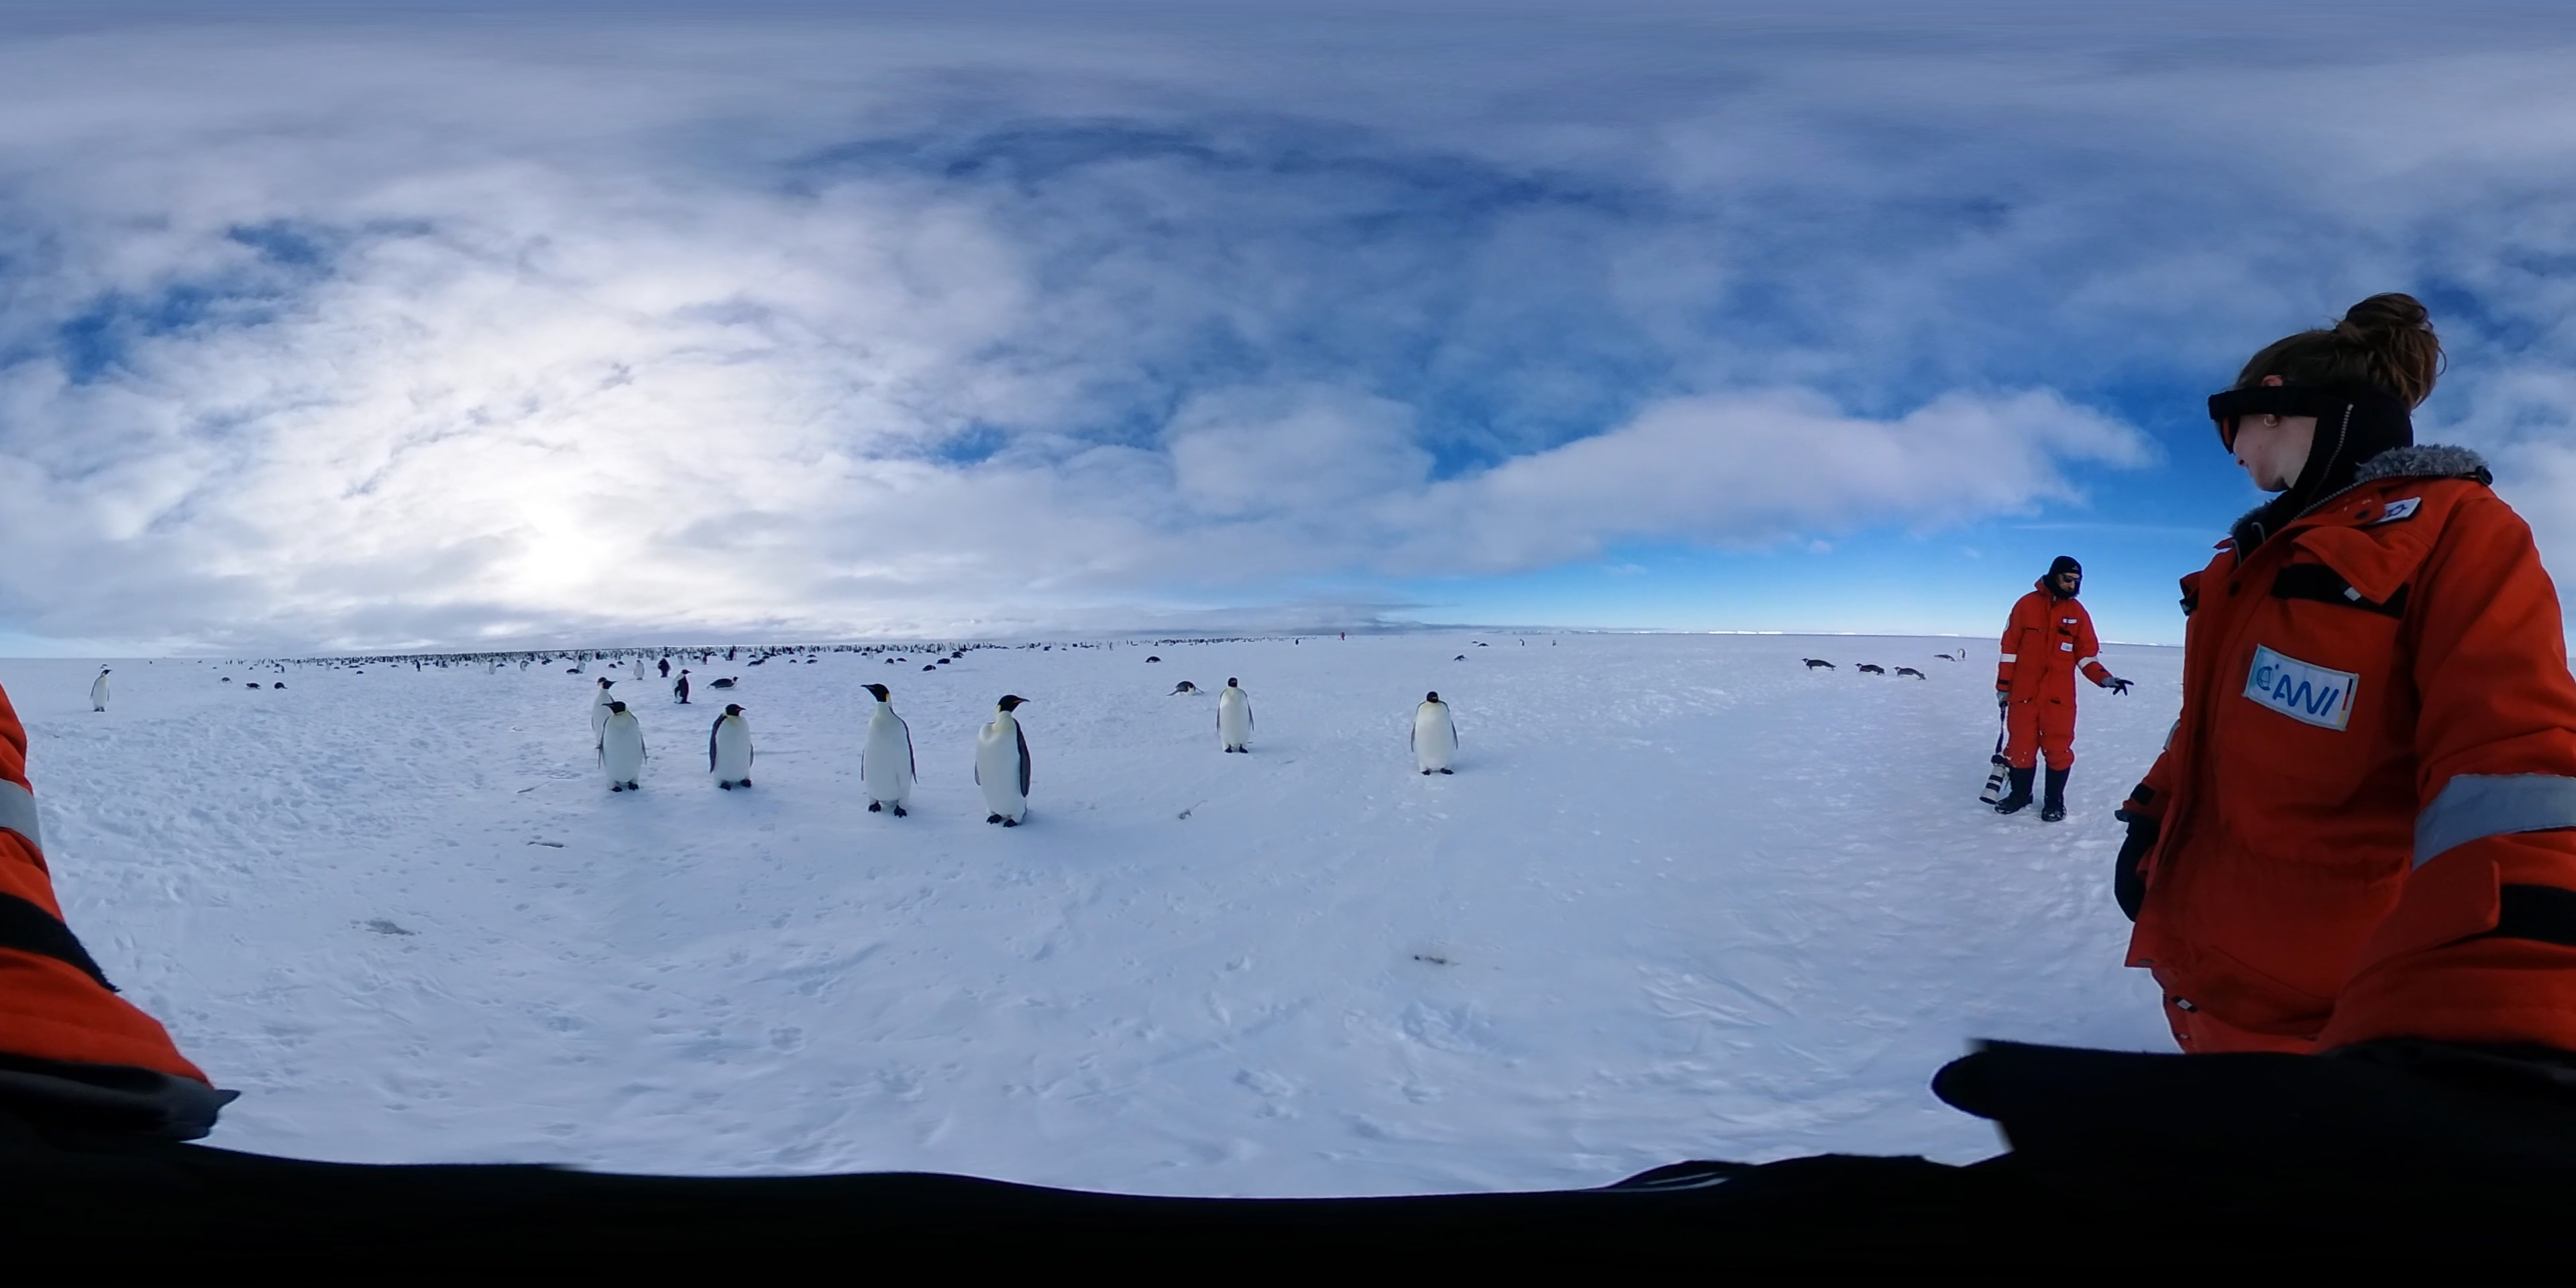adult_standing_penguin: (854, 677, 925, 825), (969, 695, 1033, 830), (595, 695, 649, 793), (706, 701, 757, 795), (1411, 688, 1459, 779), (1214, 677, 1255, 756), (591, 677, 614, 751), (85, 667, 113, 716), (670, 667, 695, 706)
adult_toboggan_penguin: (701, 675, 743, 693), (1799, 655, 1837, 674), (1893, 665, 1929, 683), (1168, 680, 1204, 697), (1851, 662, 1886, 678), (1138, 655, 1165, 665), (1932, 652, 1957, 662), (243, 680, 261, 692), (1452, 652, 1467, 664)
researcher: (2116, 286, 2576, 1094), (1991, 545, 2088, 823)
